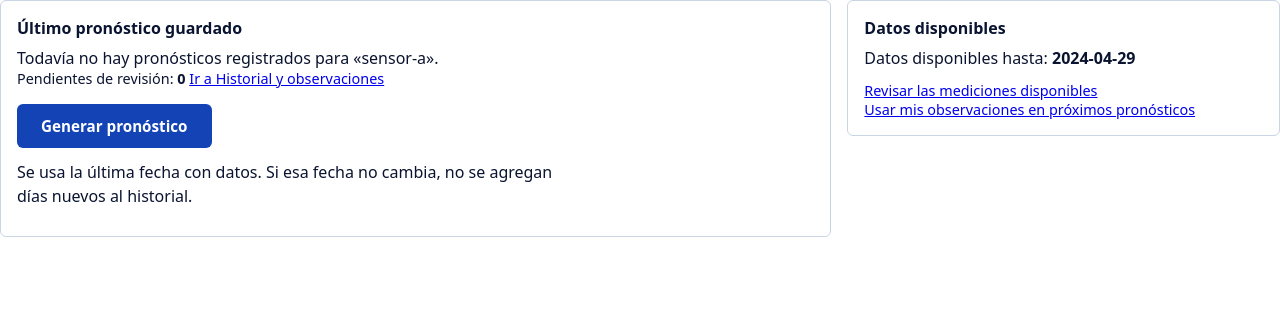
Test: ResumenView › confirms when a new day was added
Step 1. Click the button "Generar pronóstico" → (114, 126), box [17,104,212,148]
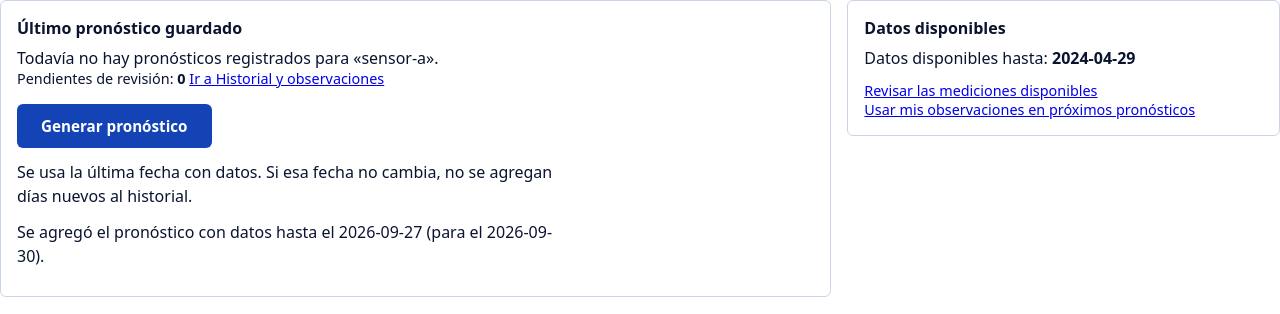
Expected: the text "Se agregó el pronóstico con datos hasta el 2026-09-27 (para el 2026-09-30)." is shown, [17,220,566,268]
